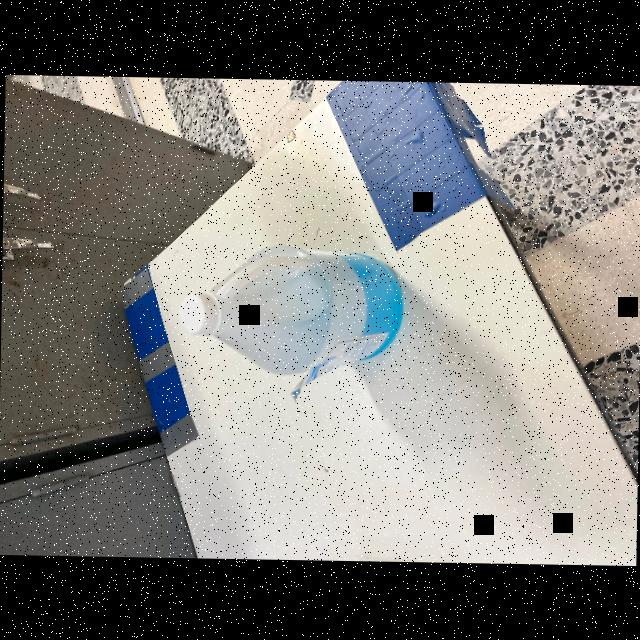chemical_plastic_gallon: (162, 230, 404, 400)
